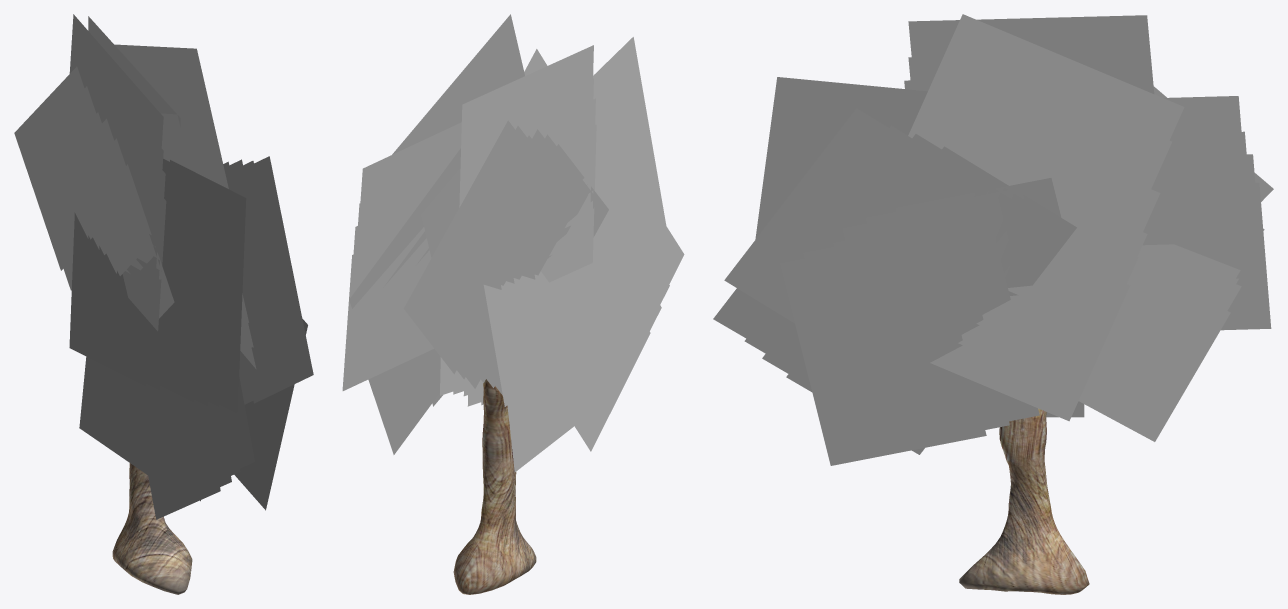
Rendered from Tree.FBX.
3 renders of one model, left to right at view 1: azimuth 30°, elevation 25°; view 2: azimuth 150°, elevation 25°; view 3: azimuth 270°, elevation 25°, orthographic. The views are drawn at different scales.
Parts seen in each view (by area): view 1: Plane018, Plane001, Plane010, Tree, Plane022, Plane026, Plane036, Plane034, Plane033, Plane043, Plane041, Plane035 (+27 smaller); view 2: Plane001, Plane018, Plane010, Plane047, Tree, Plane022, Plane050, Plane026, Plane043, Plane049, Plane002, Plane003 (+24 smaller); view 3: Plane043, Plane027, Plane036, Plane049, Tree, Plane052, Plane010, Plane018, Plane037, Plane044, Plane028, Plane039 (+22 smaller).
Part boxes in pixels (left/top/right/bottom): Plane018: left=161, top=160, right=246, bottom=413; Plane001: left=14, top=66, right=123, bottom=270; Plane010: left=69, top=14, right=163, bottom=246; Tree: left=112, top=463, right=192, bottom=594; Plane022: left=172, top=377, right=254, bottom=490; Plane026: left=124, top=379, right=200, bottom=501; Plane036: left=253, top=156, right=313, bottom=403; Plane034: left=229, top=159, right=285, bottom=398; Plane033: left=243, top=161, right=297, bottom=404; Plane043: left=114, top=44, right=228, bottom=188; Plane041: left=148, top=82, right=226, bottom=187; Plane035: left=223, top=161, right=272, bottom=394; Plane001: left=403, top=120, right=558, bottom=374; Plane018: left=590, top=37, right=667, bottom=300; Plane010: left=459, top=45, right=593, bottom=207; Plane047: left=342, top=227, right=433, bottom=390; Tree: left=453, top=379, right=536, bottom=594; Plane022: left=590, top=227, right=684, bottom=373; Plane050: left=368, top=348, right=440, bottom=454; Plane026: left=552, top=319, right=608, bottom=427; Plane043: left=392, top=14, right=524, bottom=154; Plane049: left=360, top=122, right=461, bottom=202; Plane002: left=457, top=126, right=568, bottom=379; Plane003: left=466, top=135, right=579, bottom=388; Plane043: left=908, top=14, right=1184, bottom=242; Plane027: left=780, top=233, right=986, bottom=465; Plane036: left=724, top=108, right=989, bottom=323; Plane049: left=1143, top=96, right=1250, bottom=245; Tree: left=959, top=408, right=1089, bottom=594; Plane052: left=1115, top=229, right=1264, bottom=358; Plane010: left=908, top=15, right=1154, bottom=93; Plane018: left=755, top=77, right=927, bottom=239; Plane037: left=976, top=232, right=1147, bottom=369; Plane044: left=1008, top=189, right=1160, bottom=328; Plane028: left=803, top=222, right=1009, bottom=429; Plane039: left=930, top=284, right=1130, bottom=421.
Bounding box in the file's own units: 31.86 × 186 × 162.
